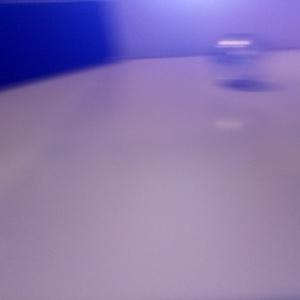alive_ball: (208, 32, 265, 87)
